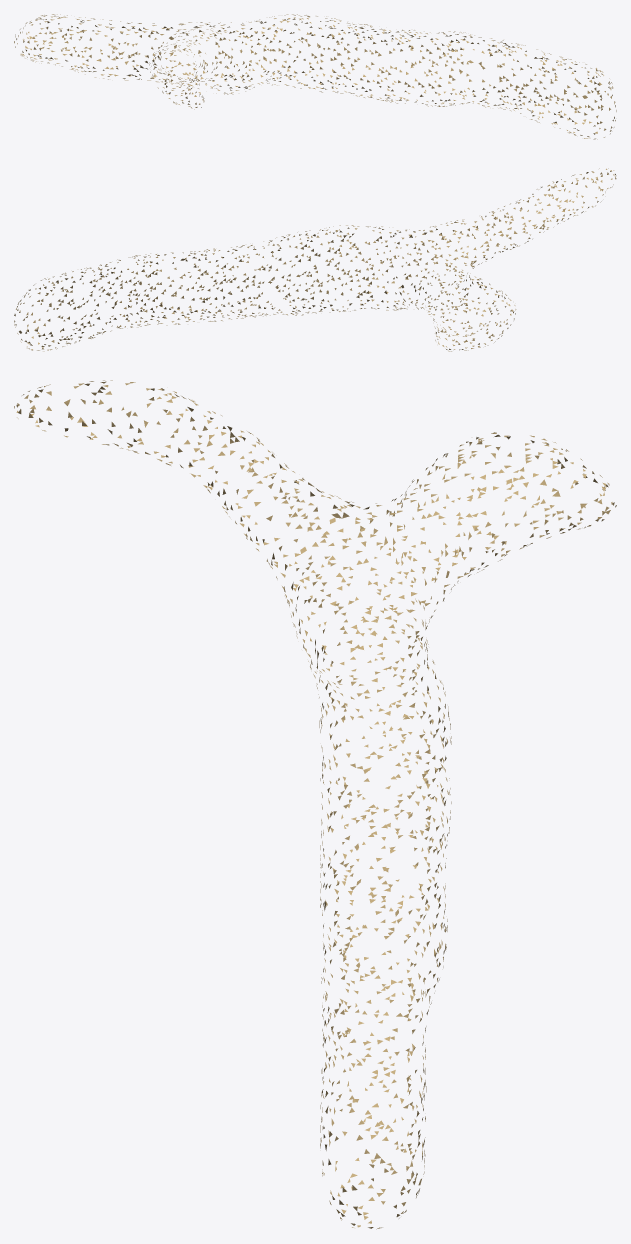
The model's file is morph_007.glb.
3 views of the same model, one above another, from view 1: azimuth 30°, elevation 25°; view 2: azimuth 150°, elevation 25°; view 3: azimuth 270°, elevation 25° (orthographic). The views are drawn at different scales.
Bounding box in the file's own units: 122 × 52.29 × 66.68.
